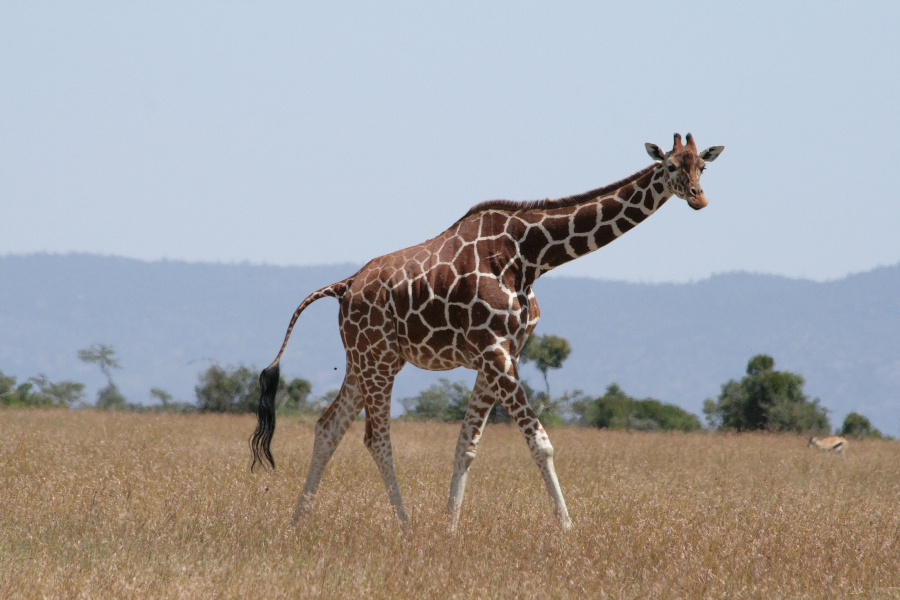giraffe: (269, 118, 729, 530)
